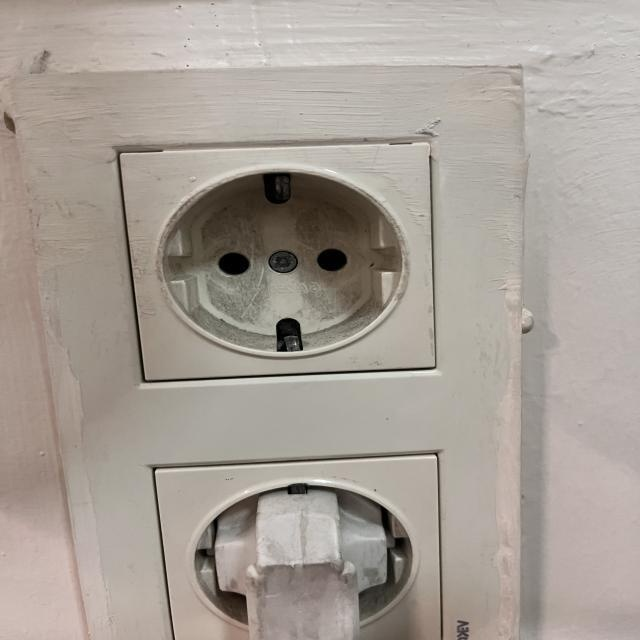pozidriv: (268, 251, 298, 273)
